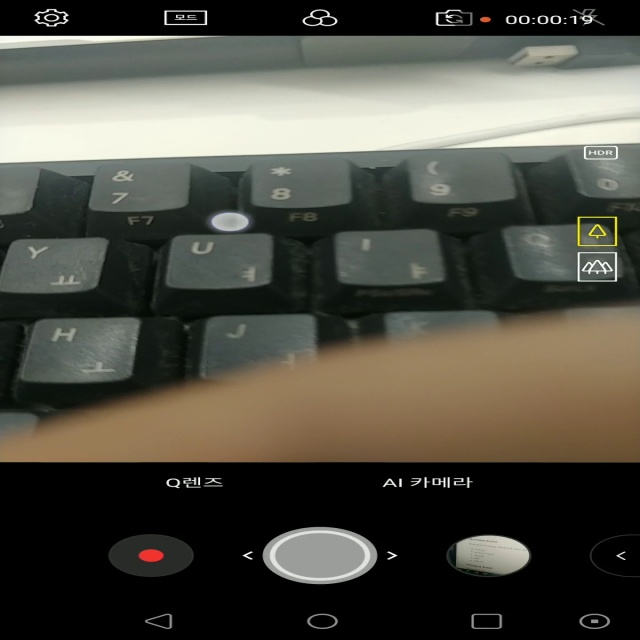Cursor: (208, 211, 253, 233)
